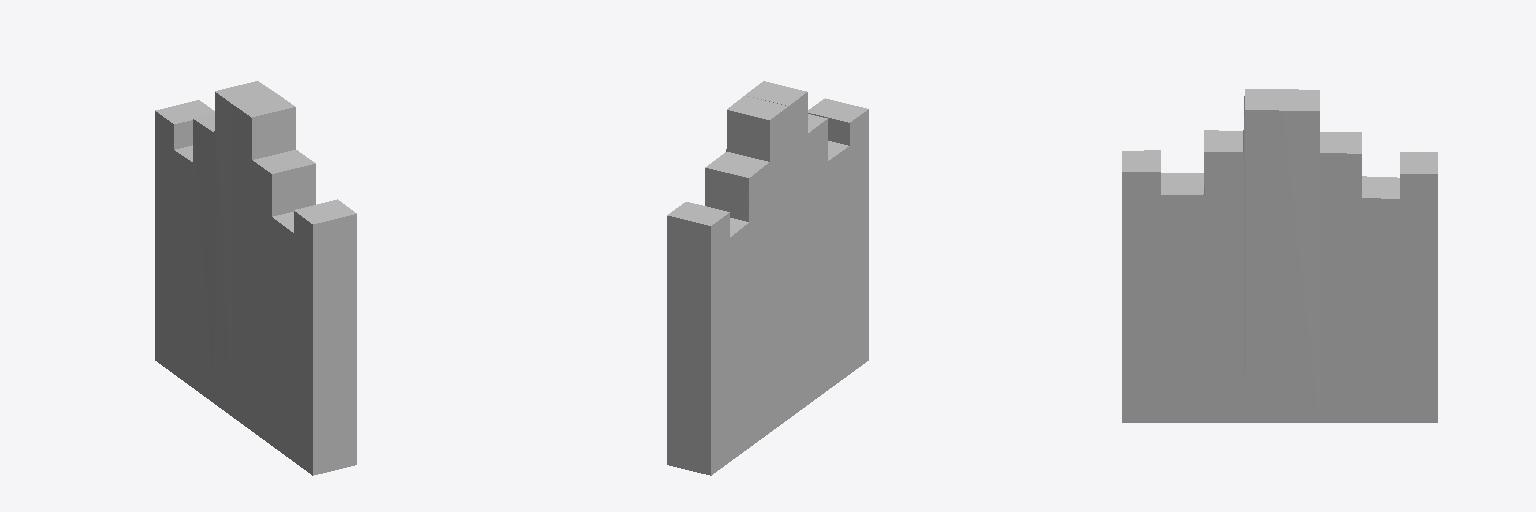
File: door.obj
The picture shows the model from 3 angles: view 1: azimuth 30°, elevation 25°; view 2: azimuth 150°, elevation 25°; view 3: azimuth 270°, elevation 25°; orthographic projection.
Parts seen in each view (by area): view 1: Cube; view 2: Cube; view 3: Cube.
Part boxes in pixels (x1,y1,x2,y2): Cube: (155, 81, 356, 475); Cube: (667, 81, 868, 475); Cube: (1122, 89, 1437, 422).
Bounding box in the file's own units: 0.4771 × 3.24 × 2.96.